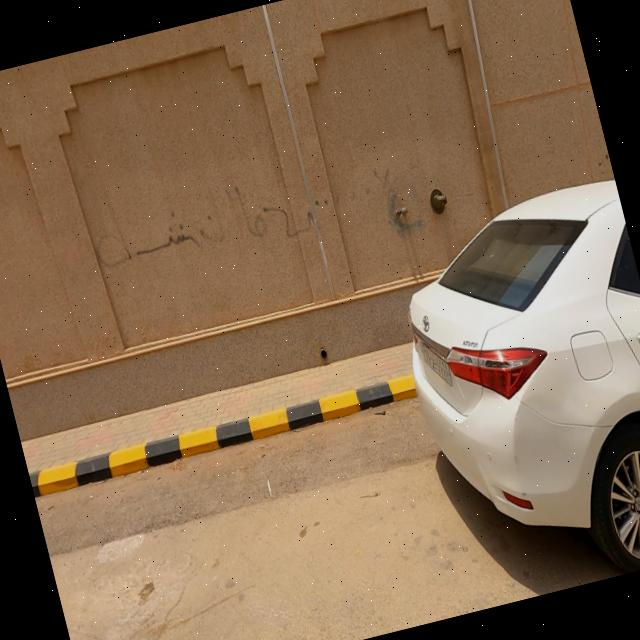Graffiti: (89, 141, 430, 309)
